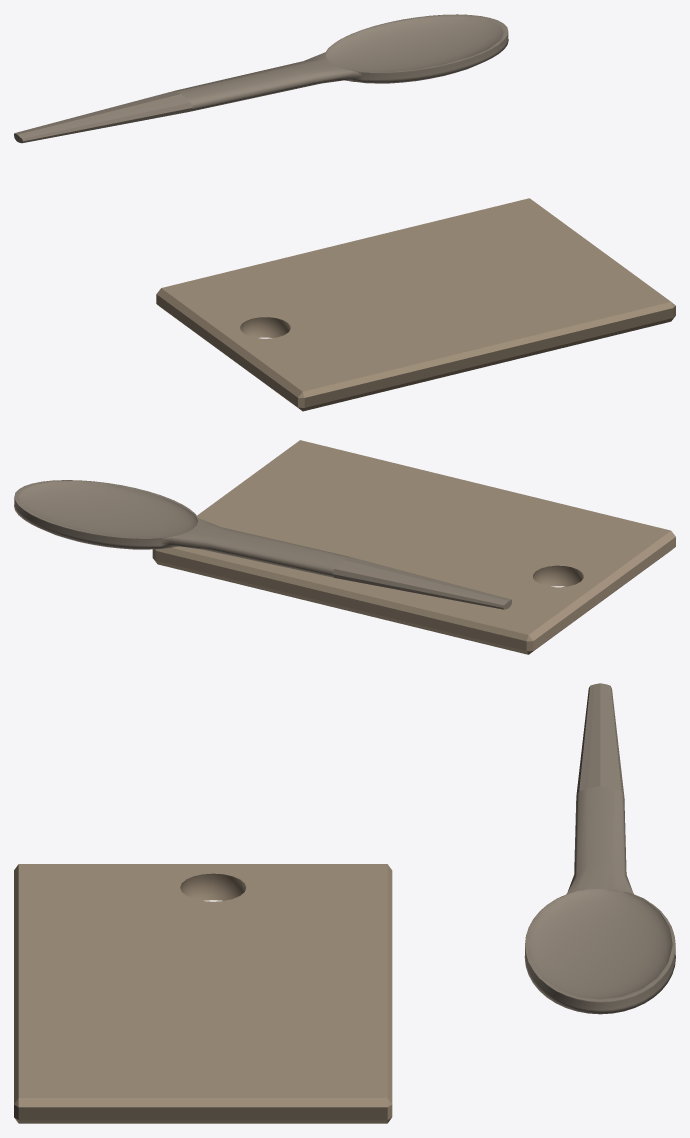
The model's file is SpoonANDboard.fbx.
3 renders of one model, top to bottom at view 1: azimuth 30°, elevation 25°; view 2: azimuth 150°, elevation 25°; view 3: azimuth 270°, elevation 25°, orthographic. The views are drawn at different scales.
Visible parts, largest first — view 1: pCube2, pCylinder2; view 2: pCube2, pCylinder2; view 3: pCube2, pCylinder2.
Part boxes in pixels (bbox=[...]): pCube2: bbox=[156, 198, 675, 411]; pCylinder2: bbox=[14, 14, 508, 143]; pCube2: bbox=[152, 440, 675, 654]; pCylinder2: bbox=[14, 480, 511, 609]; pCube2: bbox=[14, 864, 392, 1123]; pCylinder2: bbox=[524, 683, 675, 1014].
Bounding box in the file's own units: 68.79 × 23.18 × 62.25.
